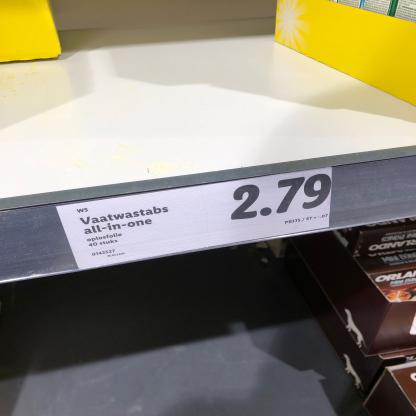prtg: (56, 167, 333, 271)
